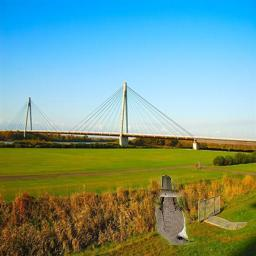Cuckoo: (156, 175, 195, 245)
